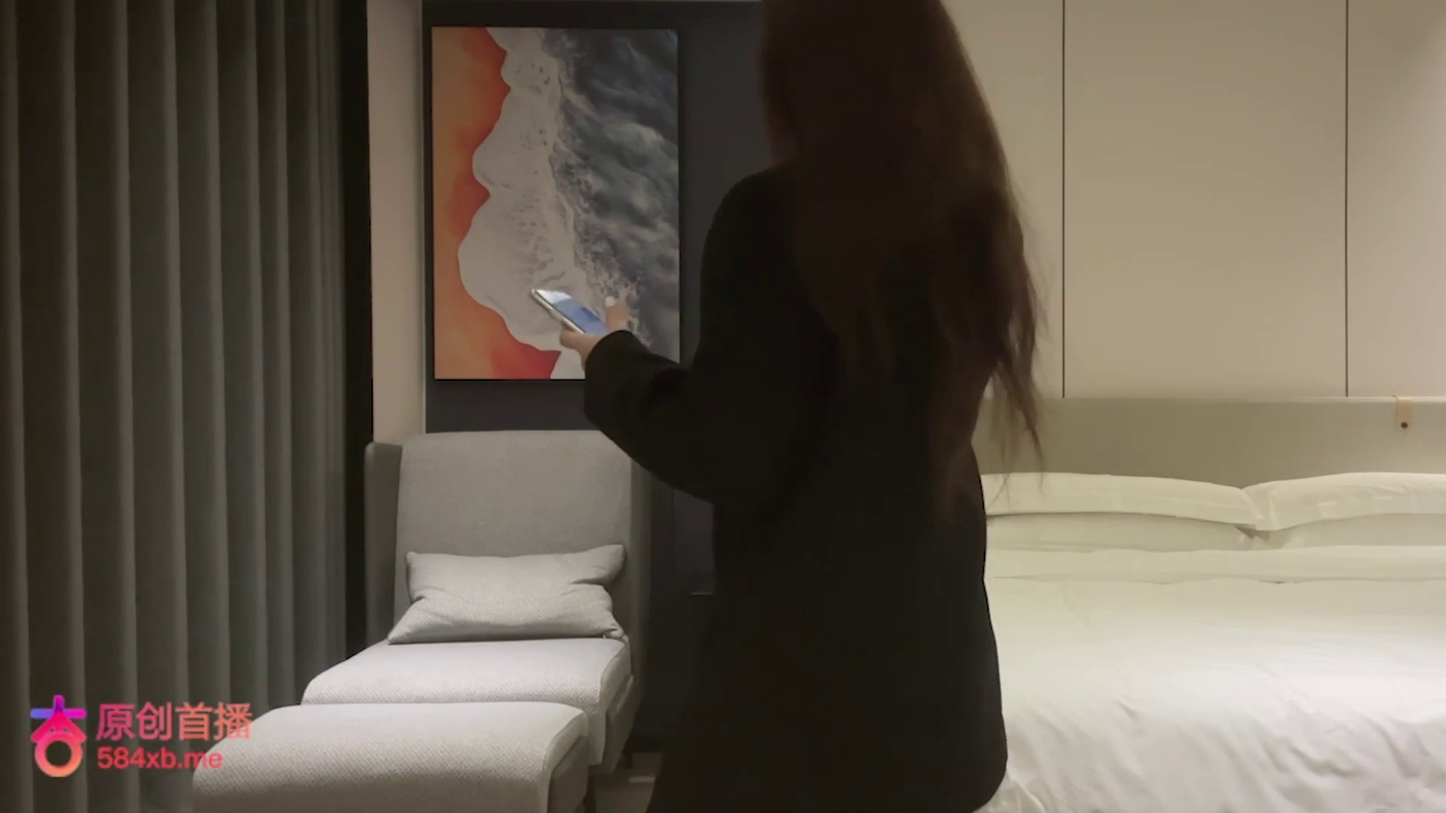stand: (548, 2, 1048, 812)
